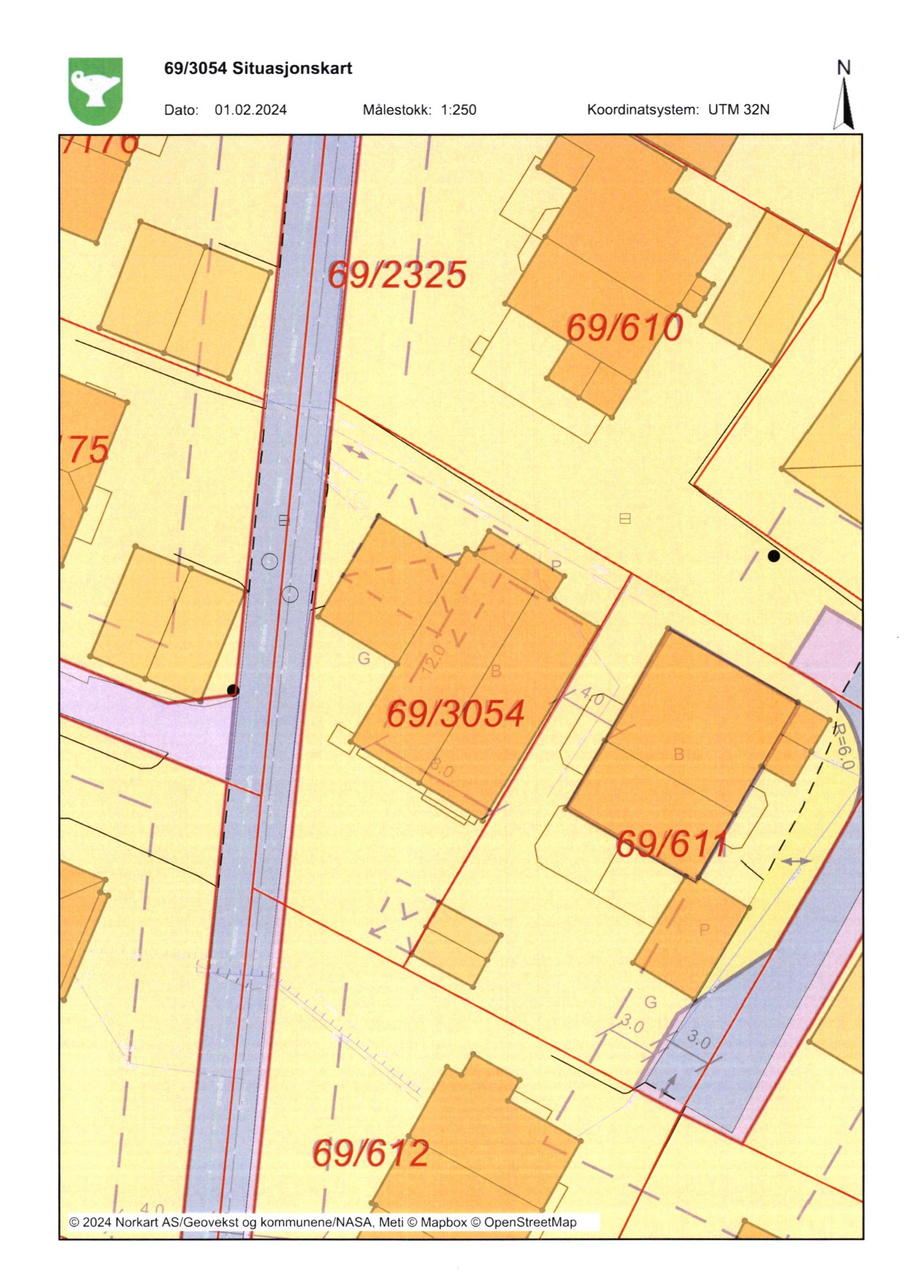situasjonskart: (56, 132, 865, 1243)
